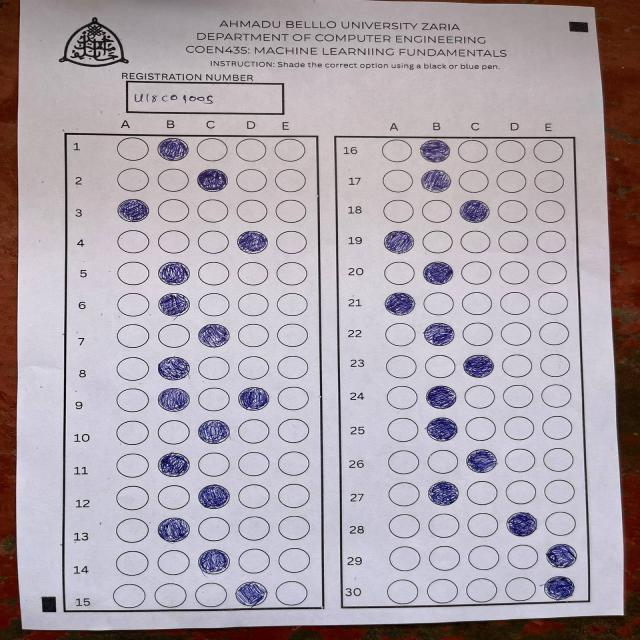bubble: (235, 581, 268, 607), (157, 137, 190, 162), (196, 168, 229, 193), (157, 517, 190, 542), (198, 419, 230, 444), (198, 484, 230, 509), (158, 452, 190, 477), (198, 549, 230, 574), (157, 356, 190, 380), (158, 262, 190, 286), (384, 292, 416, 316), (238, 387, 270, 411), (426, 417, 458, 441), (158, 388, 190, 412), (428, 481, 460, 505), (506, 512, 538, 536), (544, 576, 576, 600), (423, 261, 454, 285), (424, 322, 455, 346), (426, 385, 457, 409), (466, 449, 497, 473), (546, 544, 577, 568), (198, 324, 230, 347), (158, 293, 190, 316), (421, 169, 451, 193), (384, 230, 414, 254), (118, 199, 149, 222), (459, 200, 489, 223), (420, 139, 450, 162), (464, 354, 494, 377), (237, 231, 268, 253)
